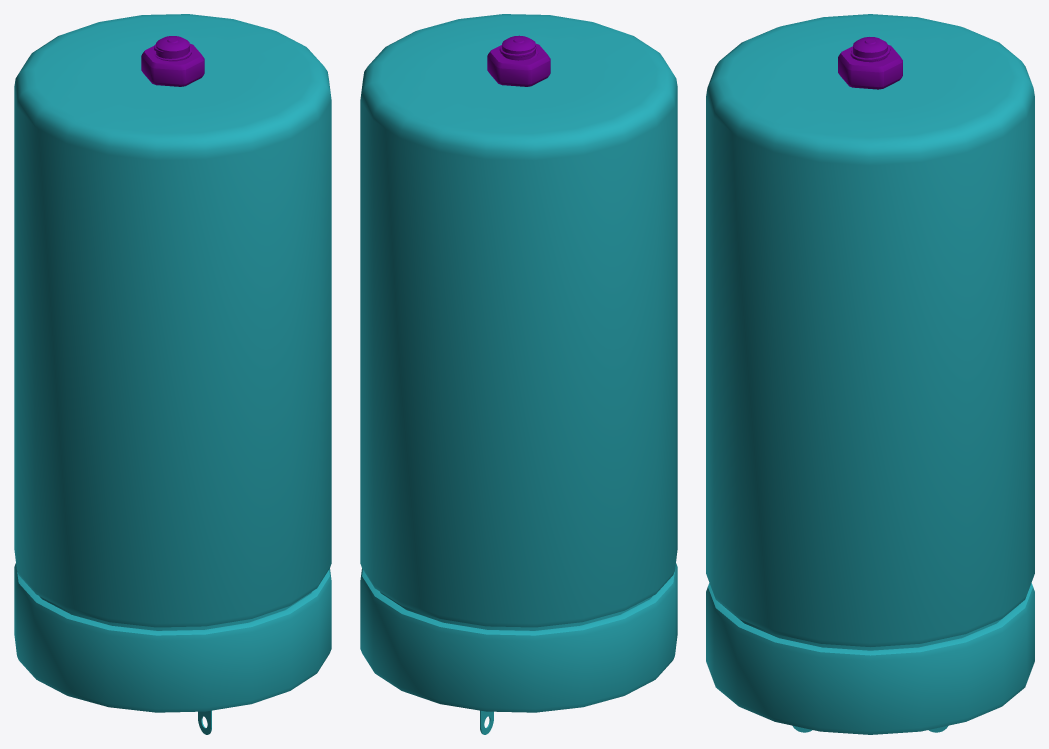
File: elements028.fbx
3 renders of one model, left to right at view 1: azimuth 30°, elevation 25°; view 2: azimuth 150°, elevation 25°; view 3: azimuth 270°, elevation 25°, orthographic. The views are drawn at different scales.
Parts seen in each view (by area): view 1: element028_LOD0; view 2: element028_LOD0; view 3: element028_LOD0.
Part boxes in pixels (left/top/right/bottom): element028_LOD0: left=14, top=14, right=331, bottom=734; element028_LOD0: left=360, top=14, right=677, bottom=734; element028_LOD0: left=706, top=14, right=1034, bottom=734.
Size of what is drawn, in the model's own units: 1.86 by 4.31 by 1.86.
